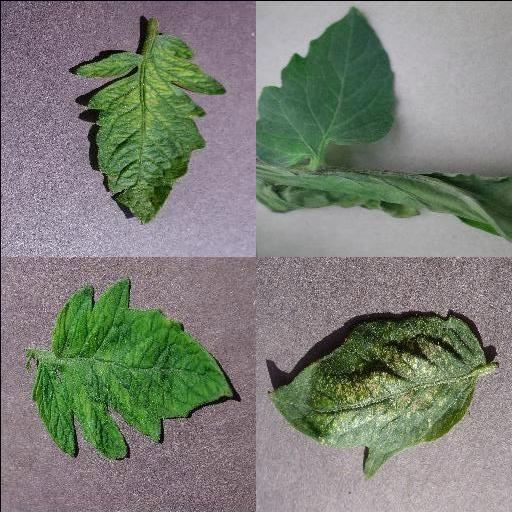Healthy: (256, 6, 397, 168)
Late Blight: (256, 168, 512, 242)
Mosaic Virus: (30, 274, 236, 460), (76, 30, 228, 226)
Spider Mites: (268, 311, 486, 477)
